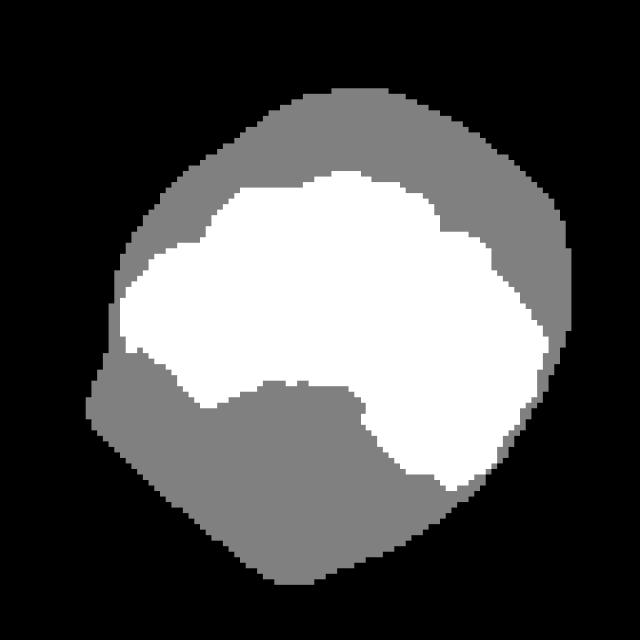WBC: (68, 61, 583, 618)
